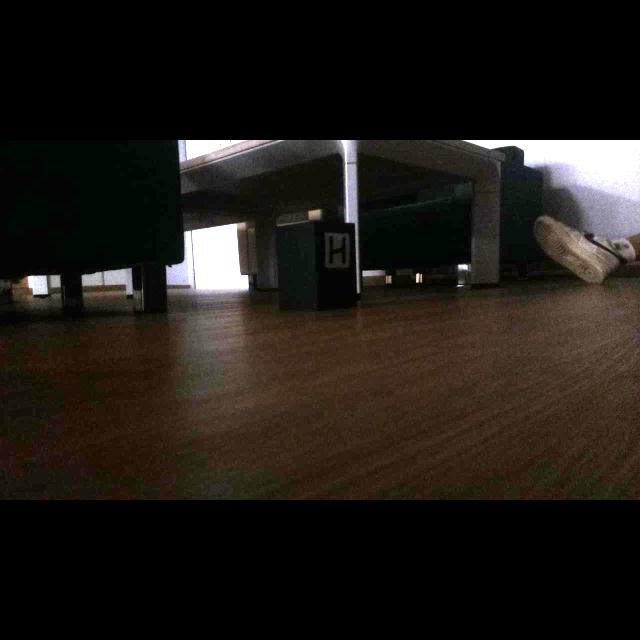H: (329, 236, 347, 265)
